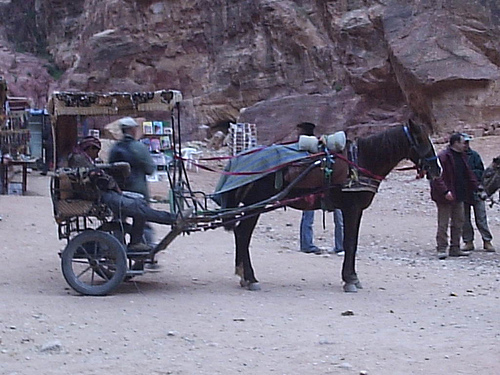horse: (210, 115, 445, 295)
